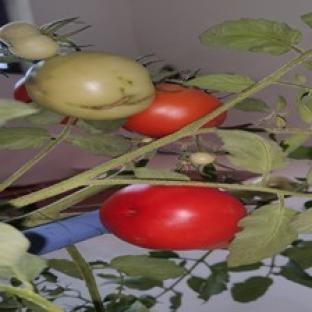Tomato: (101, 184, 246, 250), (27, 52, 154, 119), (123, 84, 221, 137), (0, 21, 59, 59), (13, 77, 32, 103), (190, 152, 215, 167)
